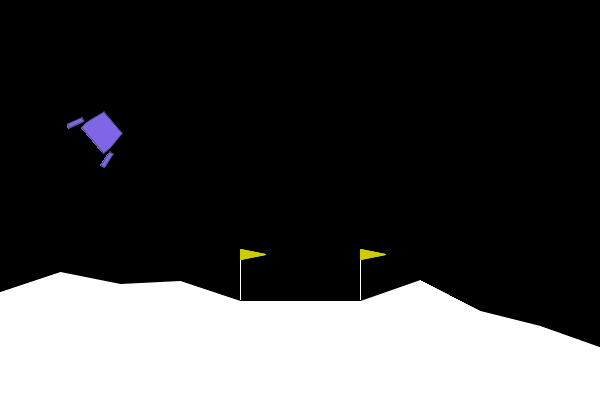lander: (64, 99, 134, 170)
